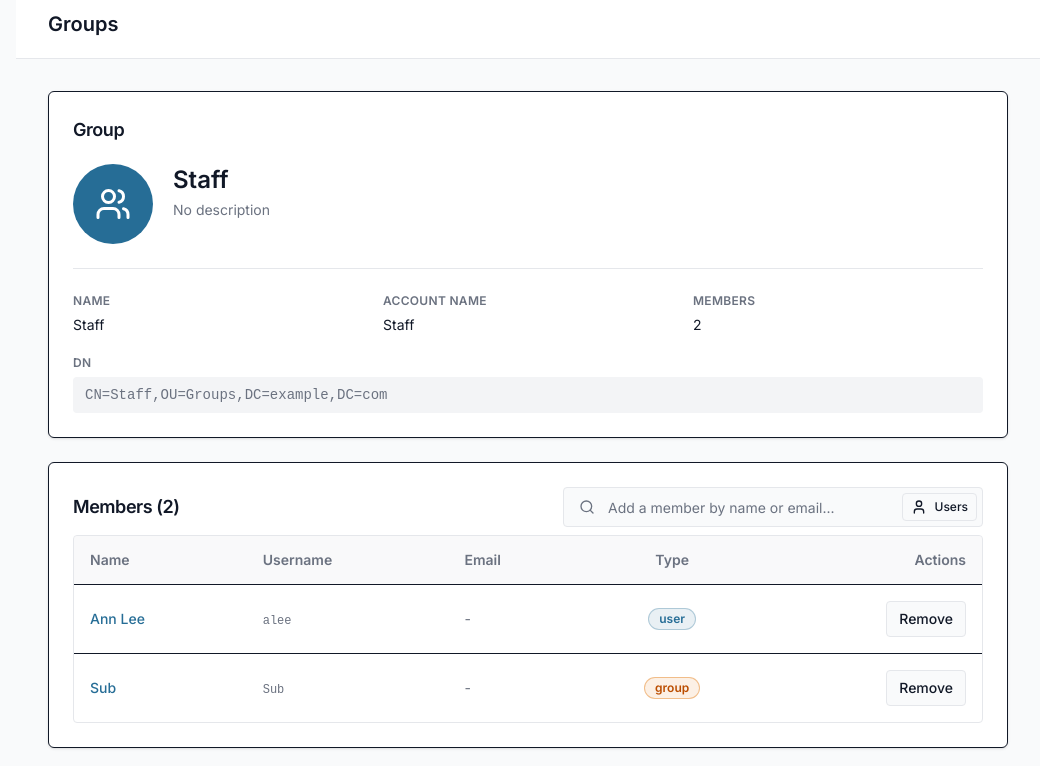
Scenario: GroupPage member management › confirms one row at a time, so a pending confirmation never spans two members
Click the button with aria-label "Remove Sub" at (926, 688), box [886,670,966,706]
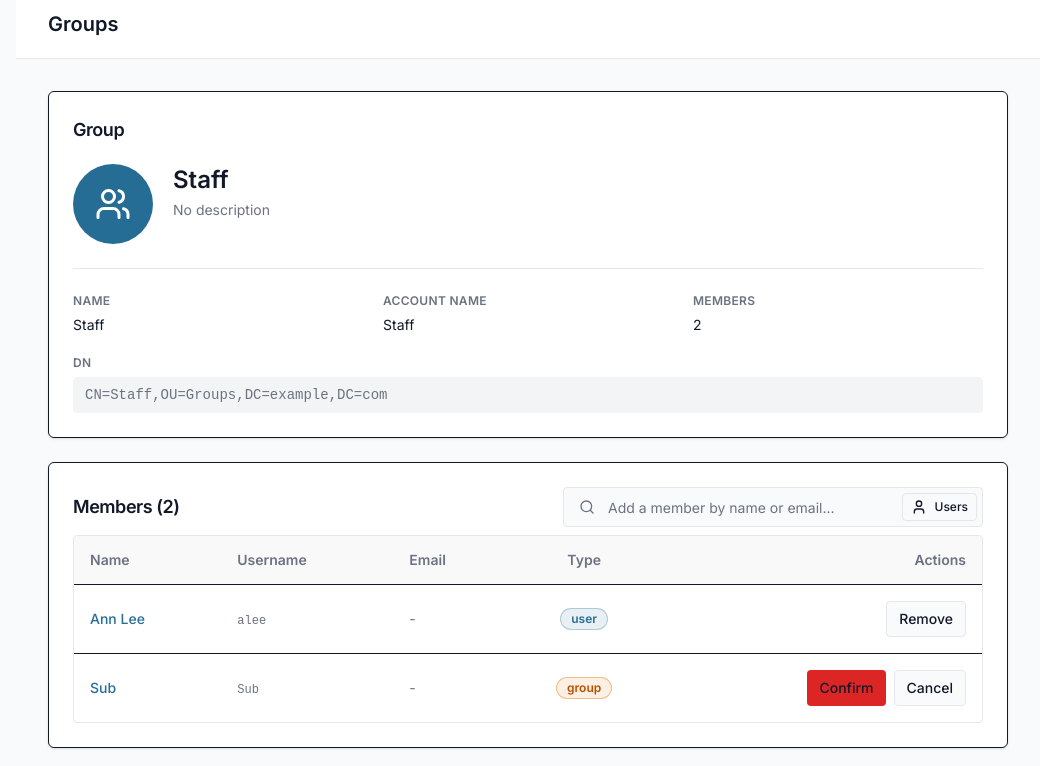
Now the button with aria-label "Confirm removing Sub" is shown, box [808,670,886,706]
